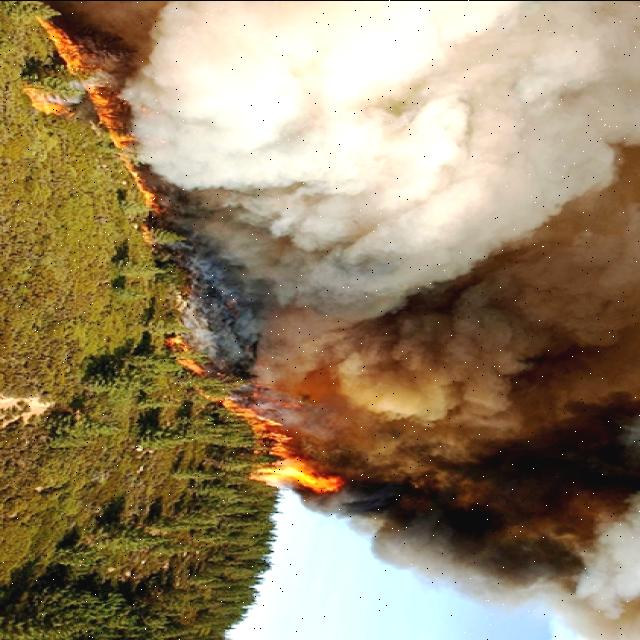api: (37, 22, 85, 78), (248, 459, 337, 489), (90, 99, 127, 151), (239, 414, 289, 452), (22, 90, 74, 118), (169, 338, 207, 376), (124, 173, 158, 197), (202, 386, 234, 404)
asap: (337, 1, 640, 635), (95, 6, 335, 95), (166, 173, 337, 294), (137, 105, 337, 173), (225, 309, 341, 415), (293, 492, 351, 534)
